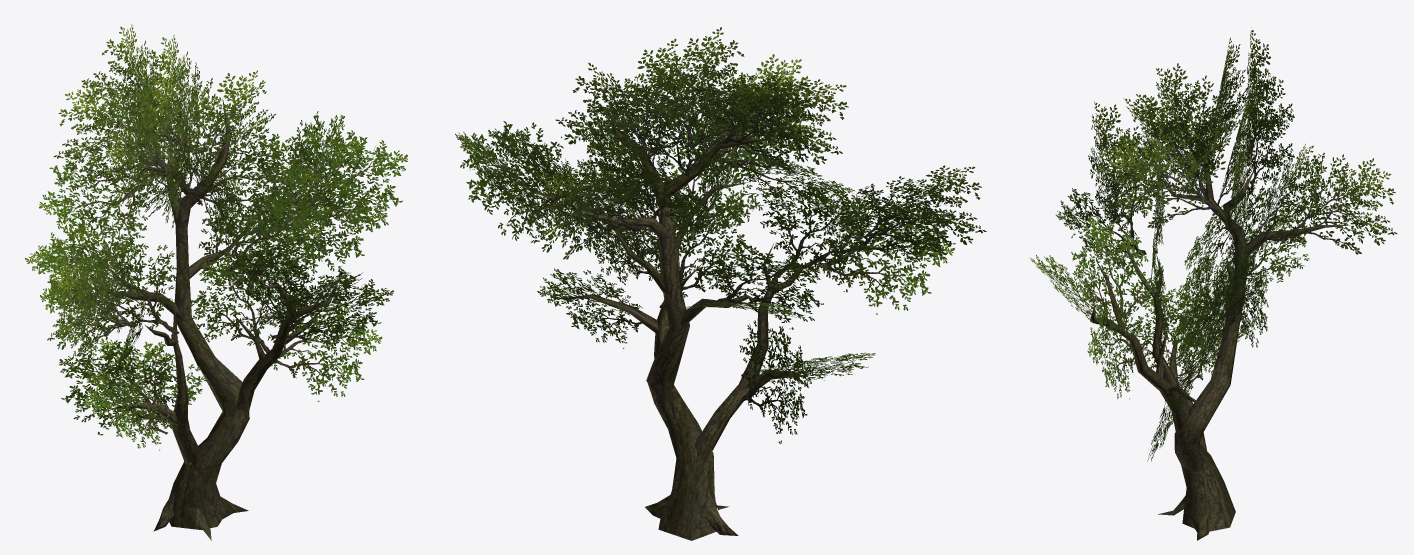
File: zc_erhai_dashu01.FBX
3 views of the same model, side by side, from view 1: azimuth 30°, elevation 25°; view 2: azimuth 150°, elevation 25°; view 3: azimuth 270°, elevation 25° (orthographic). The views are drawn at different scales.
Parts seen in each view (by area): view 1: zc_erhai_dashu01; view 2: zc_erhai_dashu01; view 3: zc_erhai_dashu01.
Boxes of the visible parts, box(x1,y1,x2,y2) form: zc_erhai_dashu01: box(25, 24, 407, 540); zc_erhai_dashu01: box(455, 27, 986, 540); zc_erhai_dashu01: box(1029, 27, 1397, 540).
Bounding box in the file's own units: 1026 × 1139 × 817.
